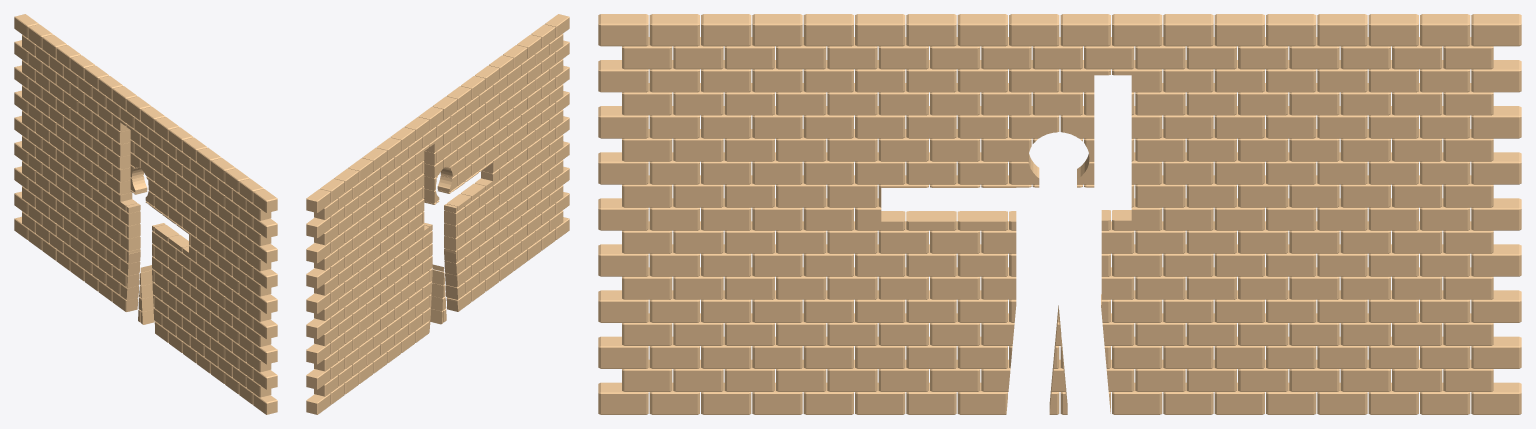
Rendered from pposewall.fbx.
The picture shows the model from 3 angles, left to right: view 1: azimuth 30°, elevation 25°; view 2: azimuth 150°, elevation 25°; view 3: azimuth 270°, elevation 25°; orthographic projection. The views are drawn at different scales.
Parts seen in each view (by area): view 1: RudolphBrick; view 2: RudolphBrick; view 3: RudolphBrick.
Part boxes in pixels (x1,y1,x2,y2): RudolphBrick: (14,14,277,414); RudolphBrick: (306,14,569,414); RudolphBrick: (598,14,1521,414).
Bounding box in the file's own units: 27.26 × 468 × 1000.
